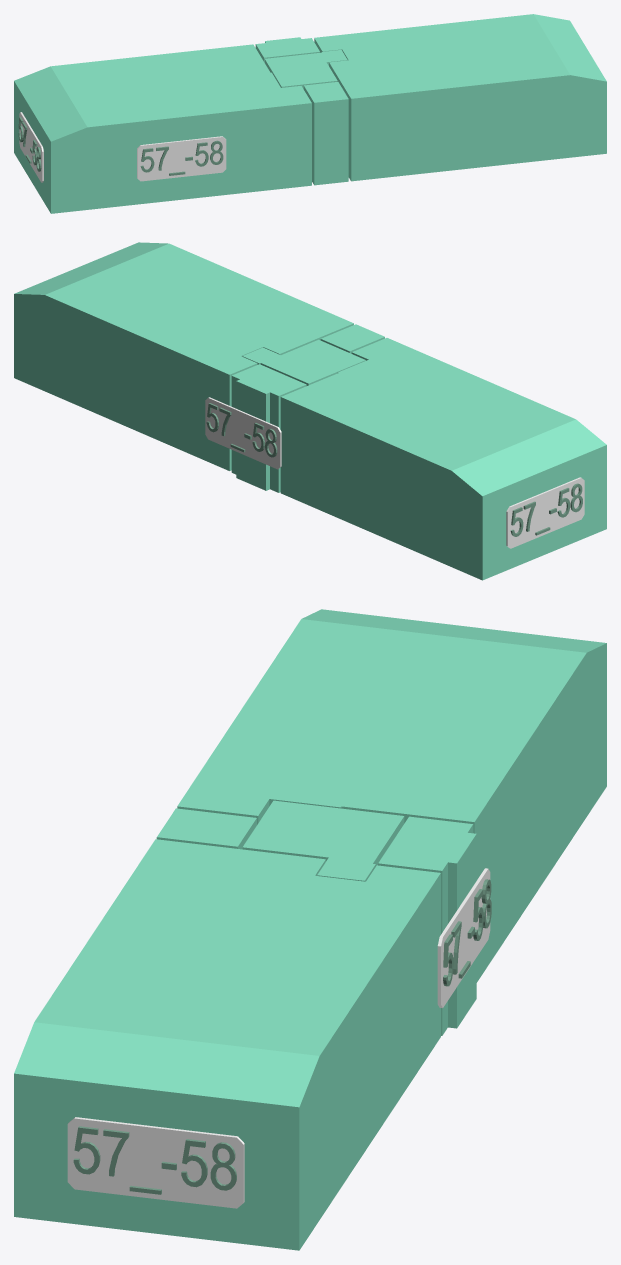
3 renders of one model, top to bottom at view 1: azimuth 30°, elevation 25°; view 2: azimuth 150°, elevation 25°; view 3: azimuth 270°, elevation 25°, orthographic. The views are drawn at different scales.
Parts seen in each view (by area): view 1: g_1, g_0, g_4, g_32, g_2, g_3, g_11; view 2: g_0, g_1, g_3, g_2, g_11, g_25, g_4; view 3: g_1, g_0, g_18, g_2, g_3, g_4, g_25.
Part boxes in pixels (x1=…): g_1: x1=314, y1=14, x2=606, y2=181; g_0: x1=14, y1=44, x2=311, y2=213; g_4: x1=303, y1=82, x2=348, y2=185; g_32: x1=137, y1=136, x2=226, y2=181; g_2: x1=264, y1=50, x2=347, y2=88; g_3: x1=255, y1=37, x2=319, y2=62; g_11: x1=19, y1=112, x2=43, y2=182; g_0: x1=280, y1=338, x2=606, y2=580; g_1: x1=14, y1=242, x2=353, y2=470; g_3: x1=231, y1=364, x2=306, y2=492; g_2: x1=242, y1=339, x2=365, y2=385; g_11: x1=506, y1=477, x2=584, y2=548; g_25: x1=205, y1=397, x2=281, y2=469; g_4: x1=320, y1=324, x2=384, y2=353; g_1: x1=14, y1=839, x2=440, y2=1250; g_0: x1=177, y1=609, x2=606, y2=982; g_18: x1=67, y1=1117, x2=244, y2=1208; g_2: x1=242, y1=800, x2=404, y2=881; g_3: x1=378, y1=816, x2=476, y2=1035; g_4: x1=156, y1=808, x2=256, y2=849; g_25: x1=437, y1=868, x2=490, y2=1008.
Bounding box in the file's own units: 16.82 × 2.6 × 8.46.
